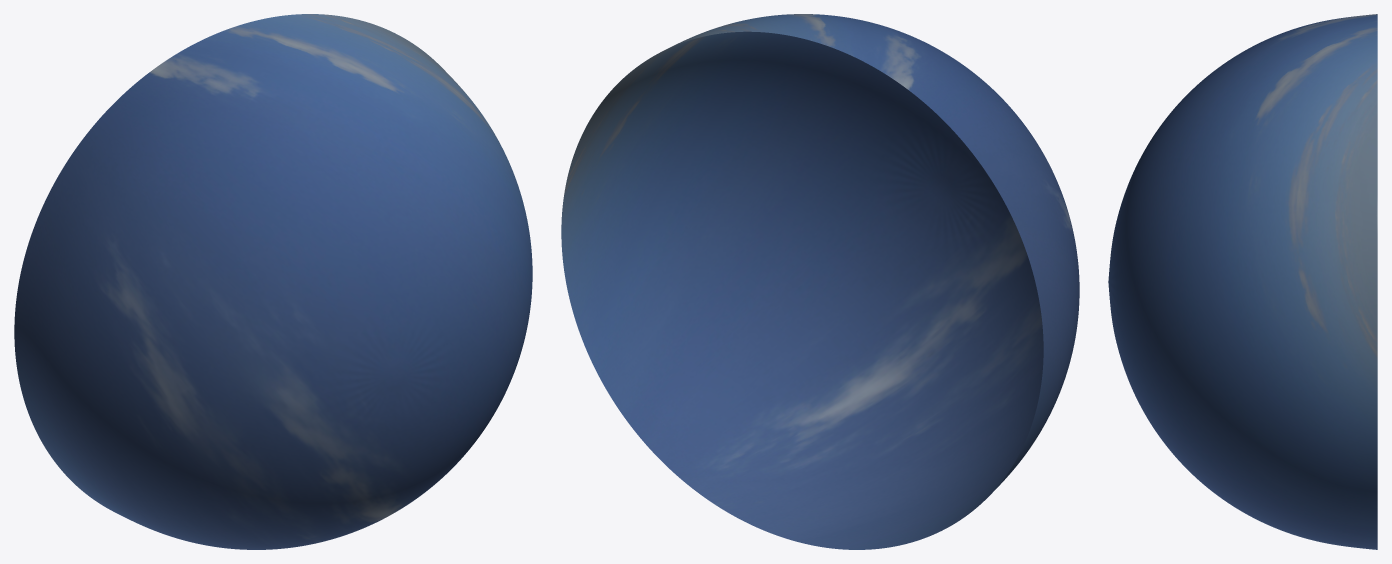
The model's file is SkyDome.fbx.
The picture shows the model from 3 angles, left to right: view 1: azimuth 30°, elevation 25°; view 2: azimuth 150°, elevation 25°; view 3: azimuth 270°, elevation 25°; orthographic projection. The views are drawn at different scales.
Visible parts, largest first — view 1: Sphere; view 2: Sphere; view 3: Sphere.
Boxes of the visible parts, x1,y1,x2,y2 form: Sphere: [14, 14, 532, 549]; Sphere: [561, 14, 1079, 549]; Sphere: [1108, 14, 1377, 549].
Size of the model in its own units: 1.99 by 1.99 by 0.9981.
1 material, 1 textured.
